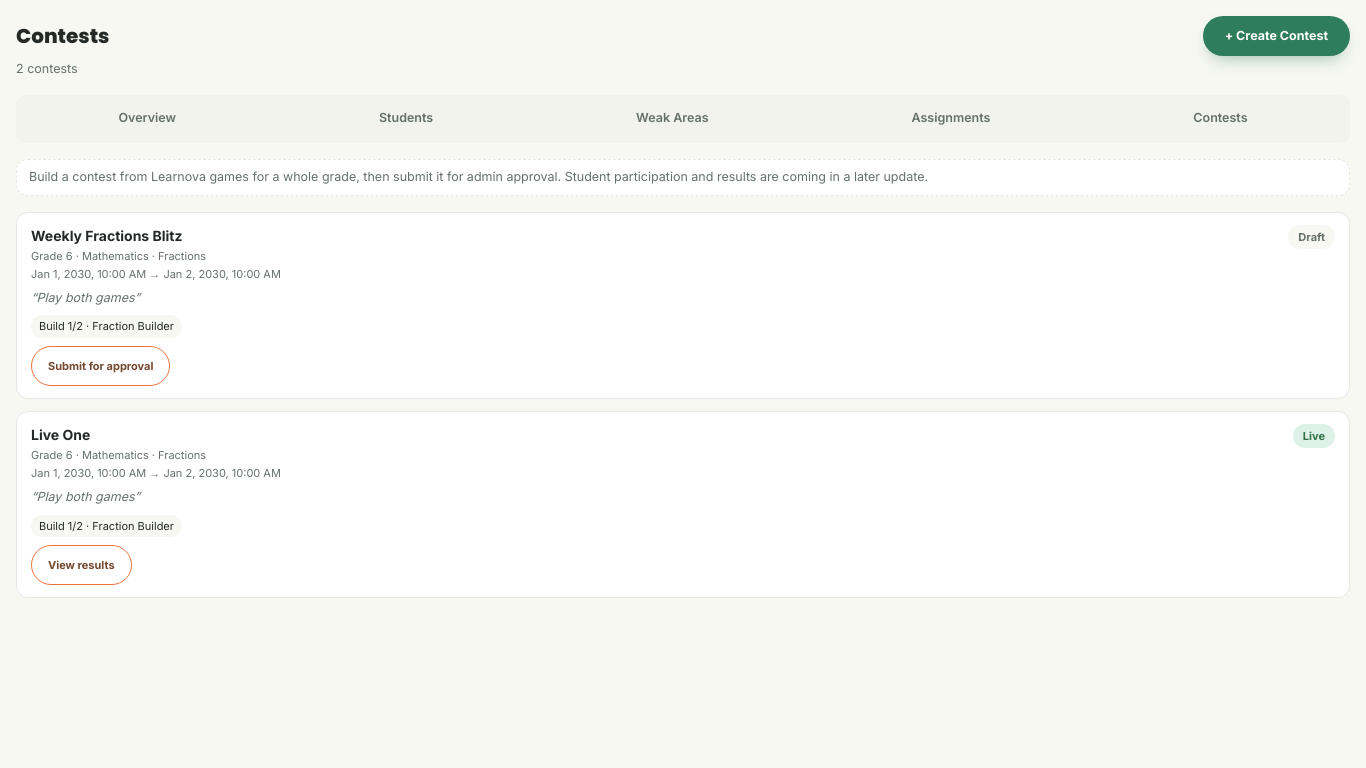
Test: TeacherContests list › only DRAFT/REJECTED contests offer 'Submit for approval', and it updates the card
Expected: the text "Weekly Fractions Blitz" is shown, [31,226,182,244]
Click the button "Submit for approval" at (101, 366), box [31,346,170,386]
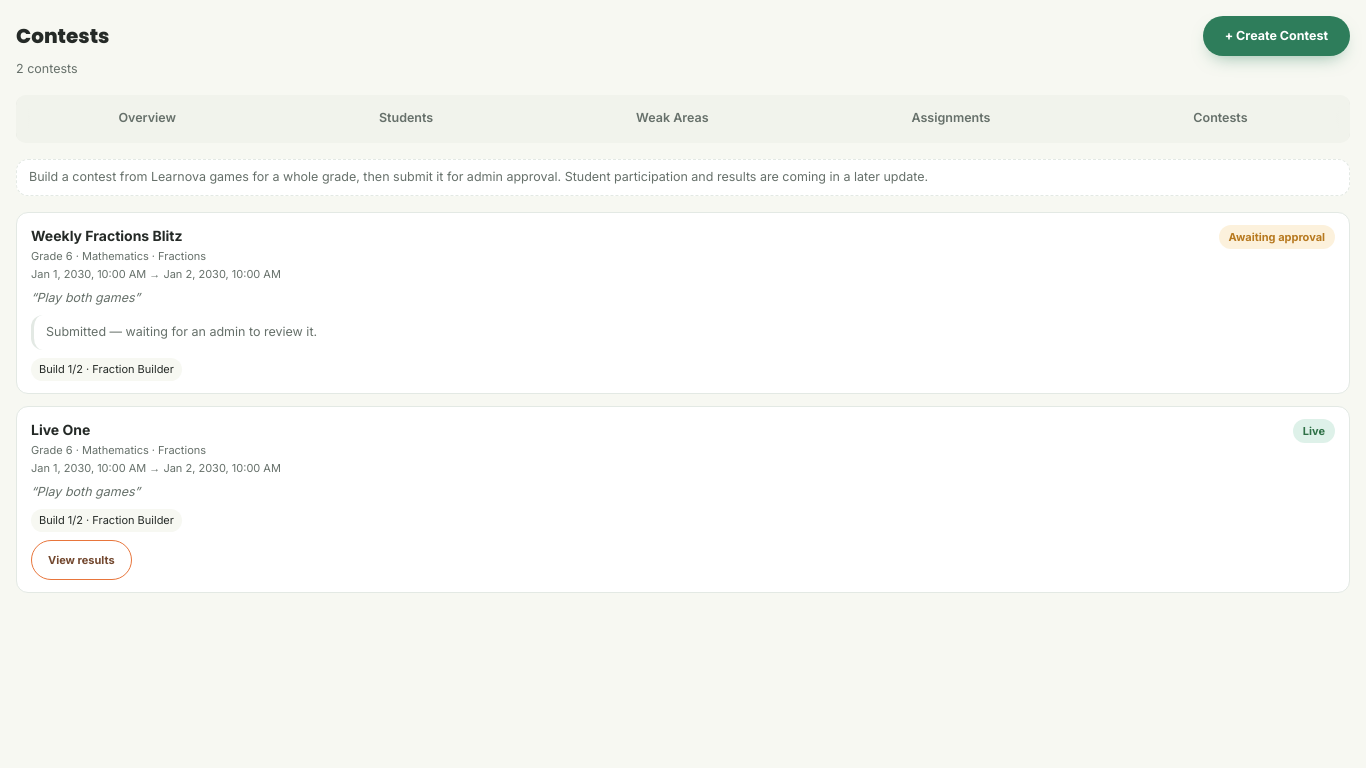
Expected: the text "Awaiting approval" is shown, [1219,224,1335,249]
Expected: the button "Submit for approval" is gone
